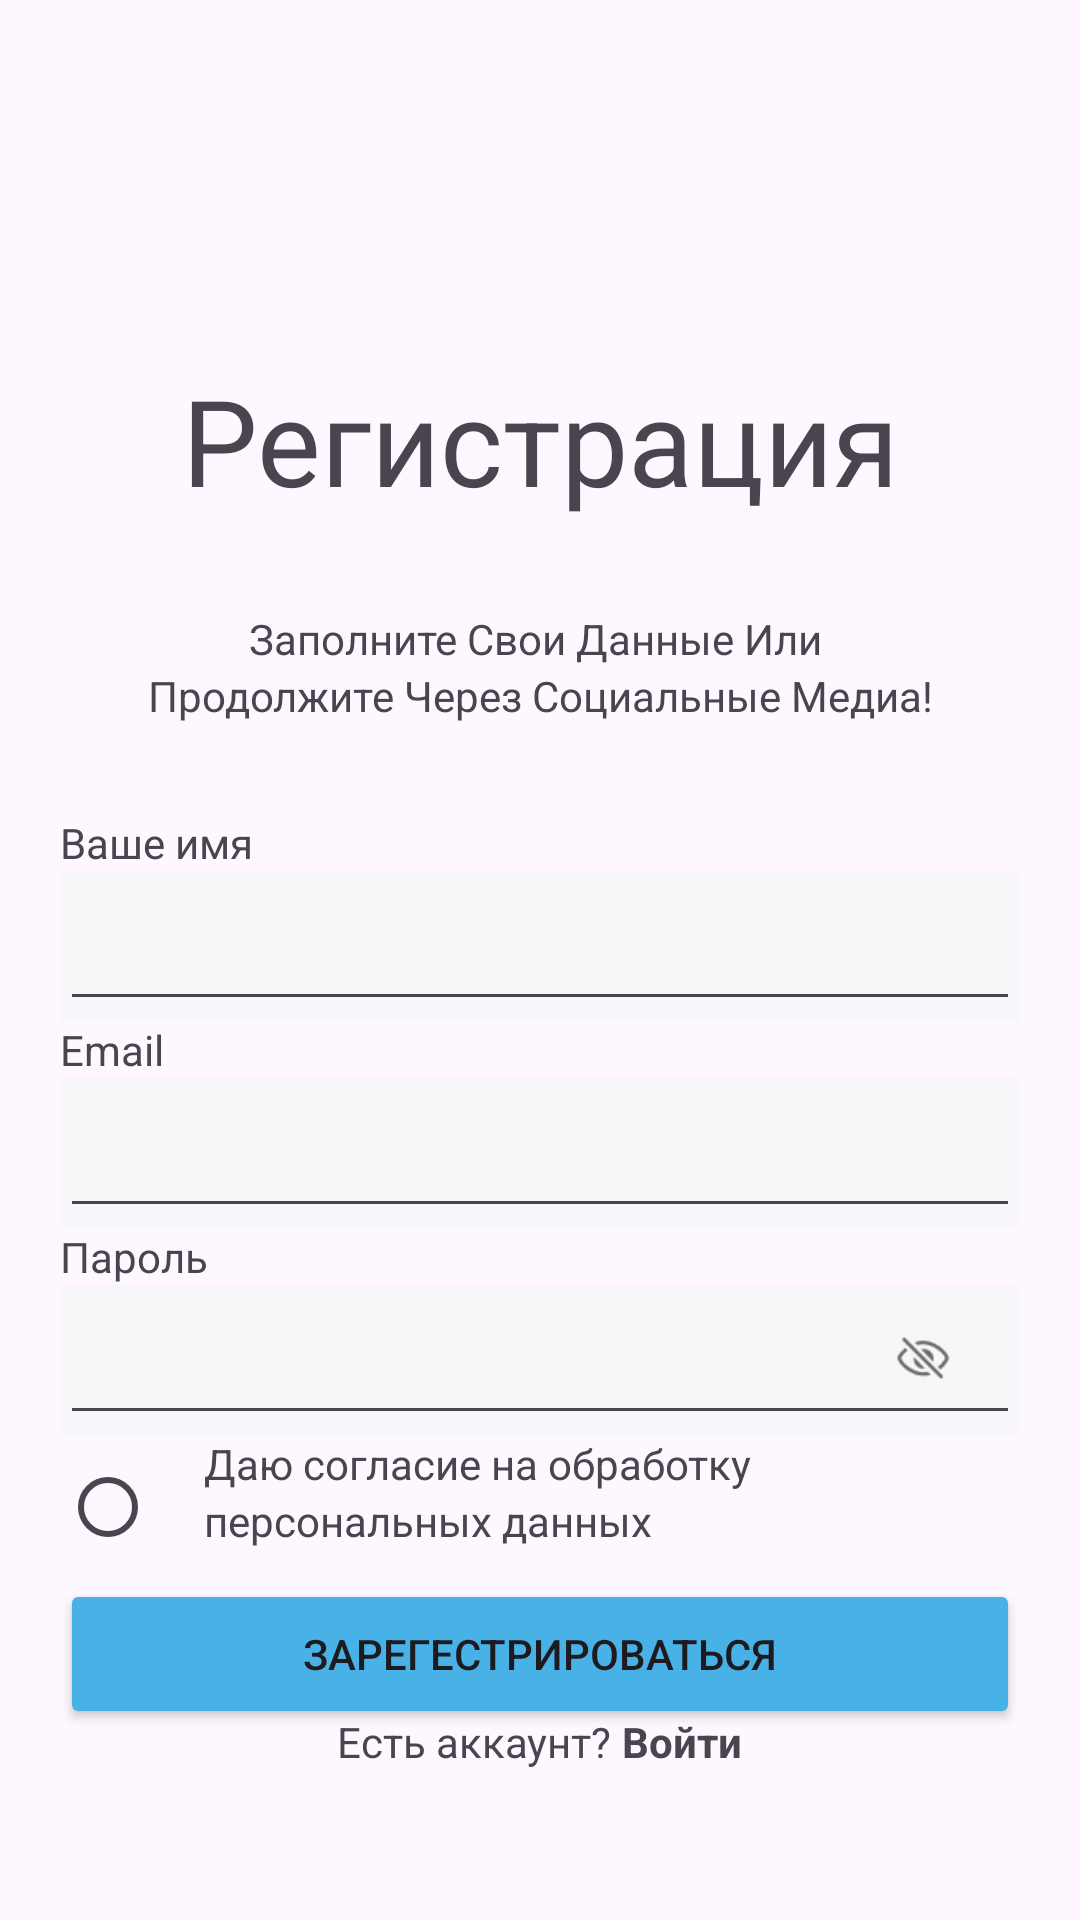

Named icons in this screenshot (1080 x 1920) and their centers, [x,y]:
unvisible: [923,1358]
